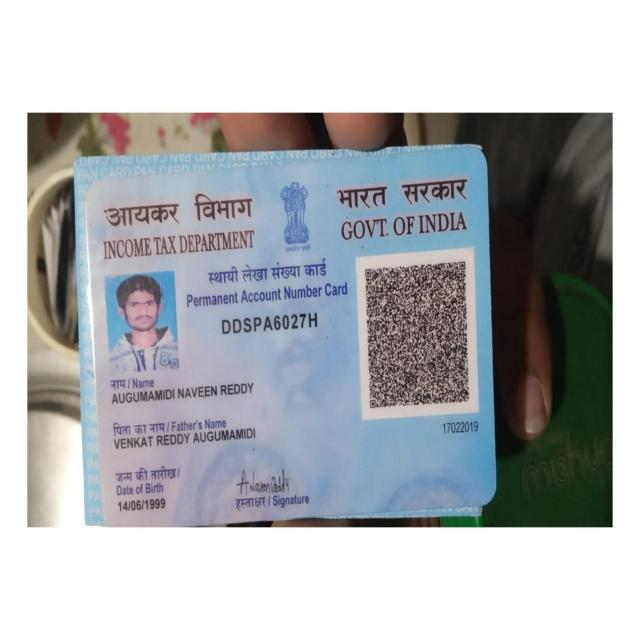pan_card: (87, 152, 488, 528)
